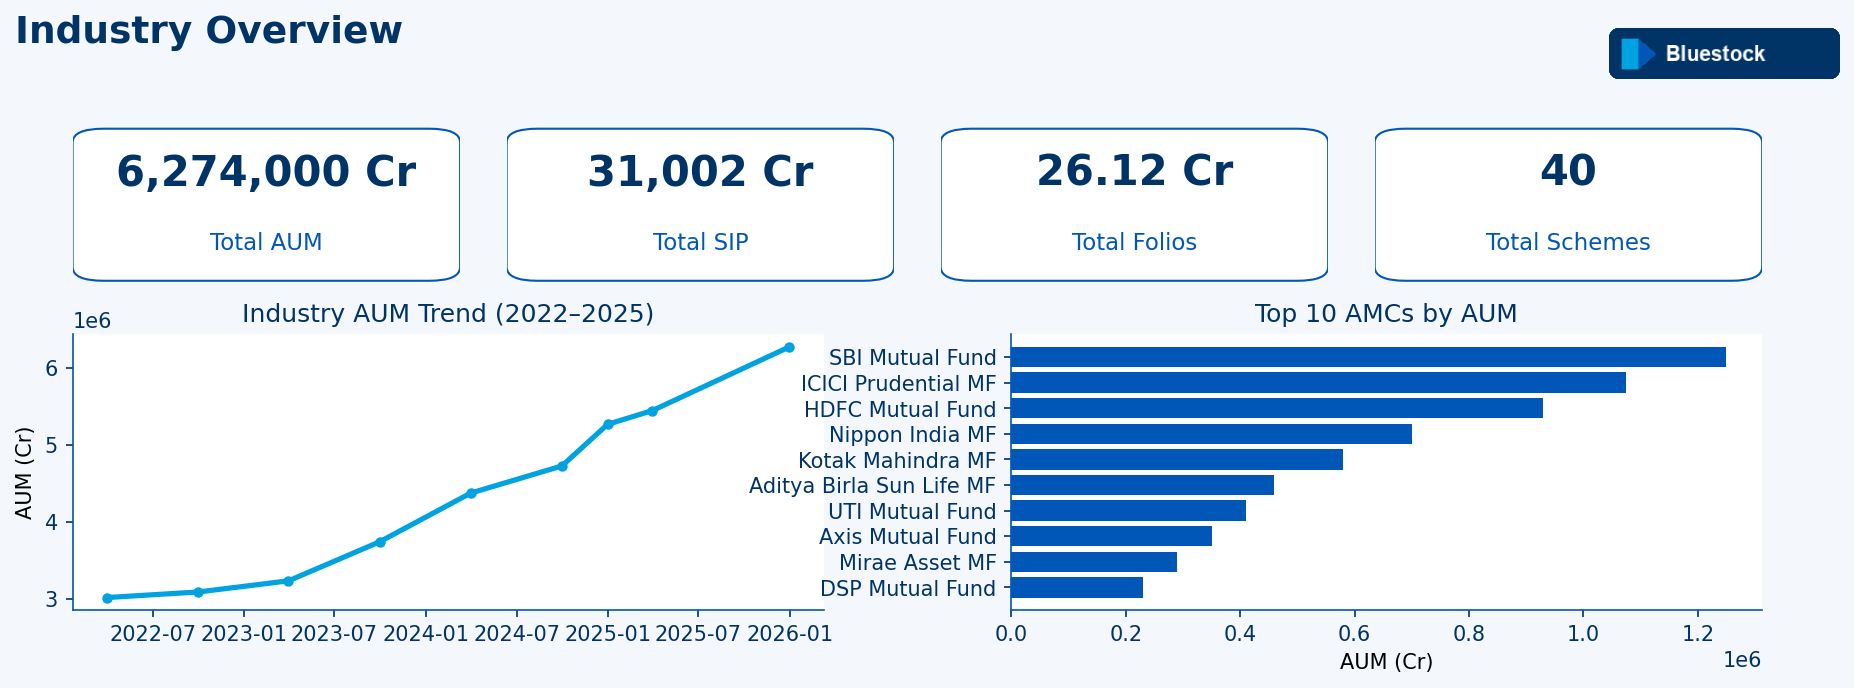

Layout of this report page (visuals, bound fields, positions):
{"tool":"powerbi","page":{"name":"Industry Overview","canvas":[1280,720],"ordinal":0},"visuals":[{"type":"card","fields":{"Values":["_Measures.Total AUM"]},"box":[20,20,290,110]},{"type":"card","fields":{"Values":["_Measures.Total SIP"]},"box":[330,20,290,110]},{"type":"card","fields":{"Values":["_Measures.Total Folios"]},"box":[640,20,290,110]},{"type":"card","fields":{"Values":["_Measures.Total Schemes"]},"box":[950,20,290,110]},{"type":"lineChart","fields":{"Category":["clean_aum.report_date"],"Y":["_Measures.Industry AUM Trend"]},"box":[20,150,600,320]},{"type":"clusteredBarChart","fields":{"Category":["clean_aum.fund_house"],"Y":["_Measures.Industry AUM Trend"]},"box":[640,150,600,320]}]}

Visuals, with their boxes on the page's 1280x720 design canvas (x1, y1, x2, y2). These are canvas units, not pixel positions in the 1854x688 screenshot, which may show the page scaled, cropped or inside an application window:
card - _Measures.Total AUM: [20,20,310,130]
card - _Measures.Total SIP: [330,20,620,130]
card - _Measures.Total Folios: [640,20,930,130]
card - _Measures.Total Schemes: [950,20,1240,130]
lineChart - clean_aum.report_date x _Measures.Industry AUM Trend: [20,150,620,470]
clusteredBarChart - clean_aum.fund_house x _Measures.Industry AUM Trend: [640,150,1240,470]
